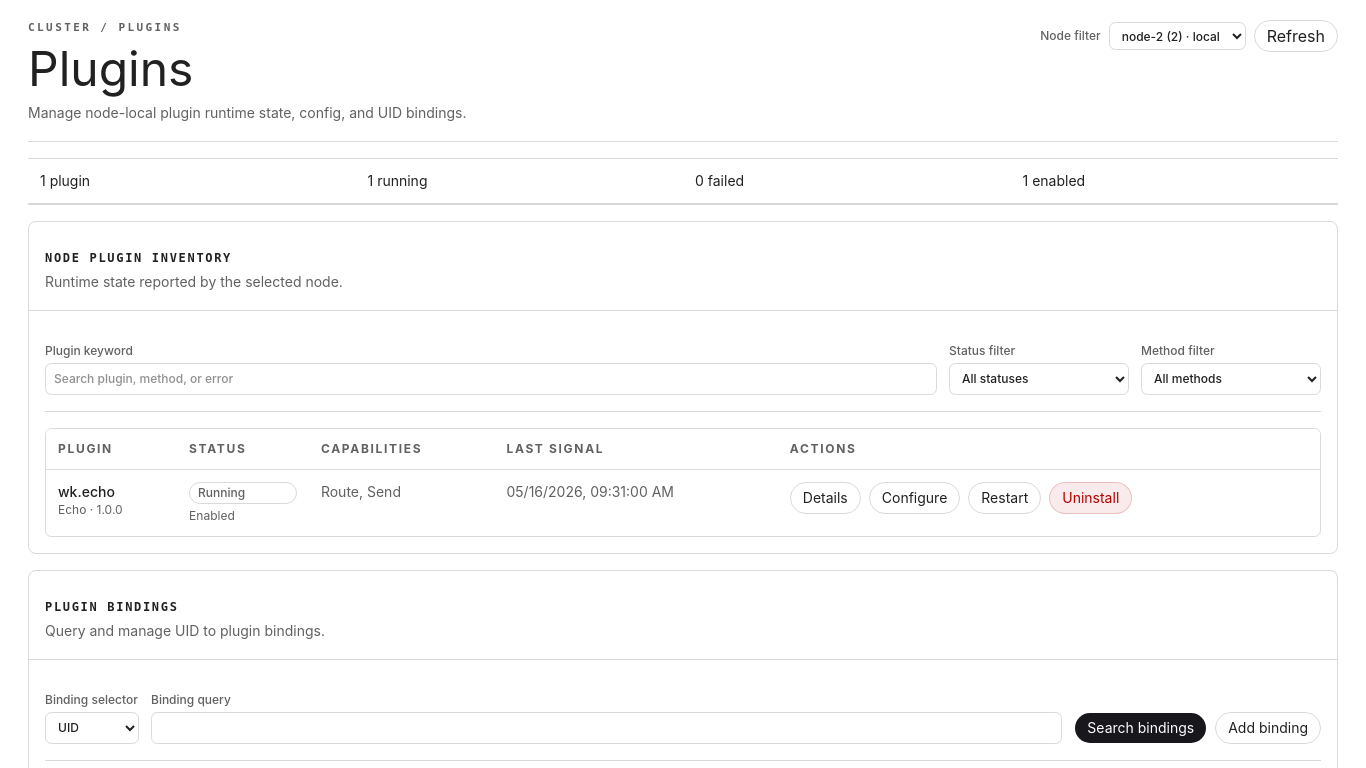
Scenario: validates plugin config JSON before updating
Expected: the text "wk.echo" is shown, [58,482,115,500]
Click the button with aria-label "Configure plugin wk.echo". click: (915, 498)
box: [869,482,960,514]
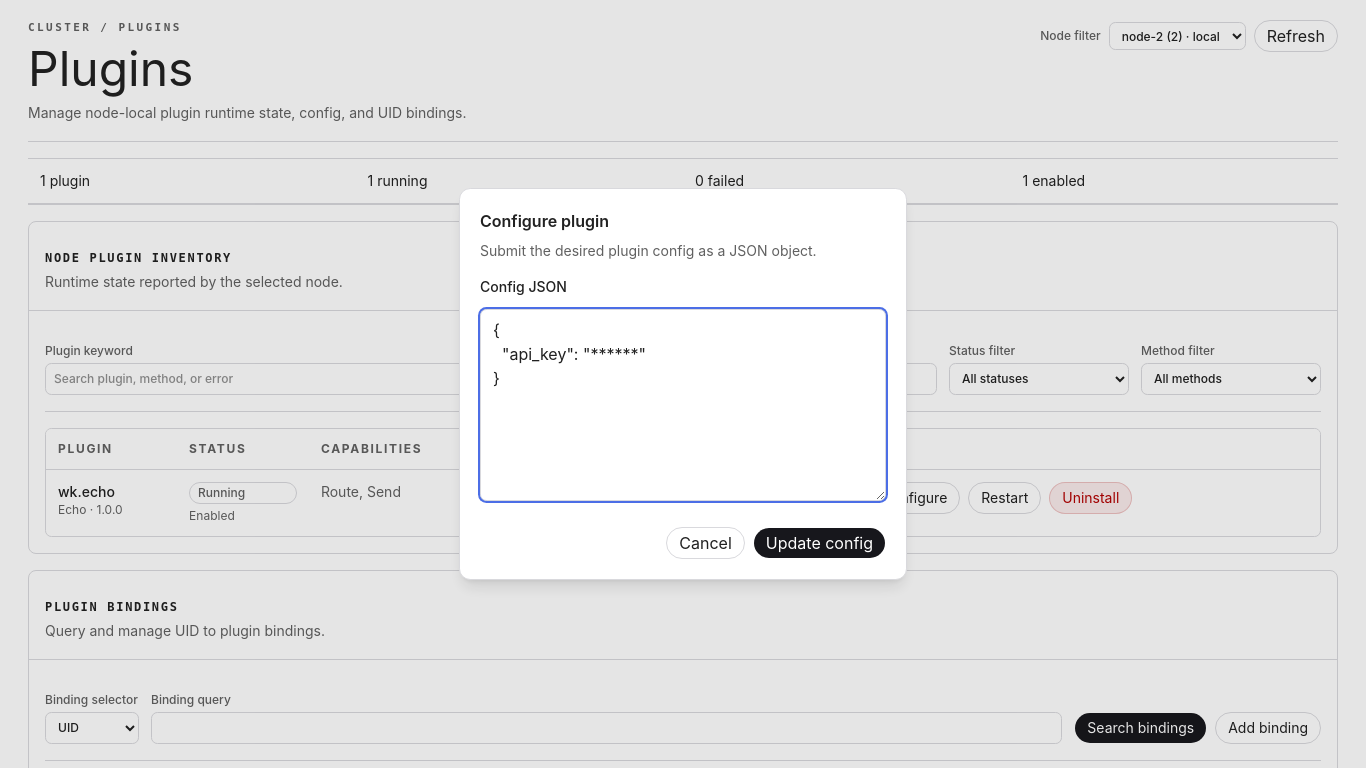
Replace the text in the text box labelled "Config JSON" with "not-json". click: (683, 405)
box: [480,309,886,501]
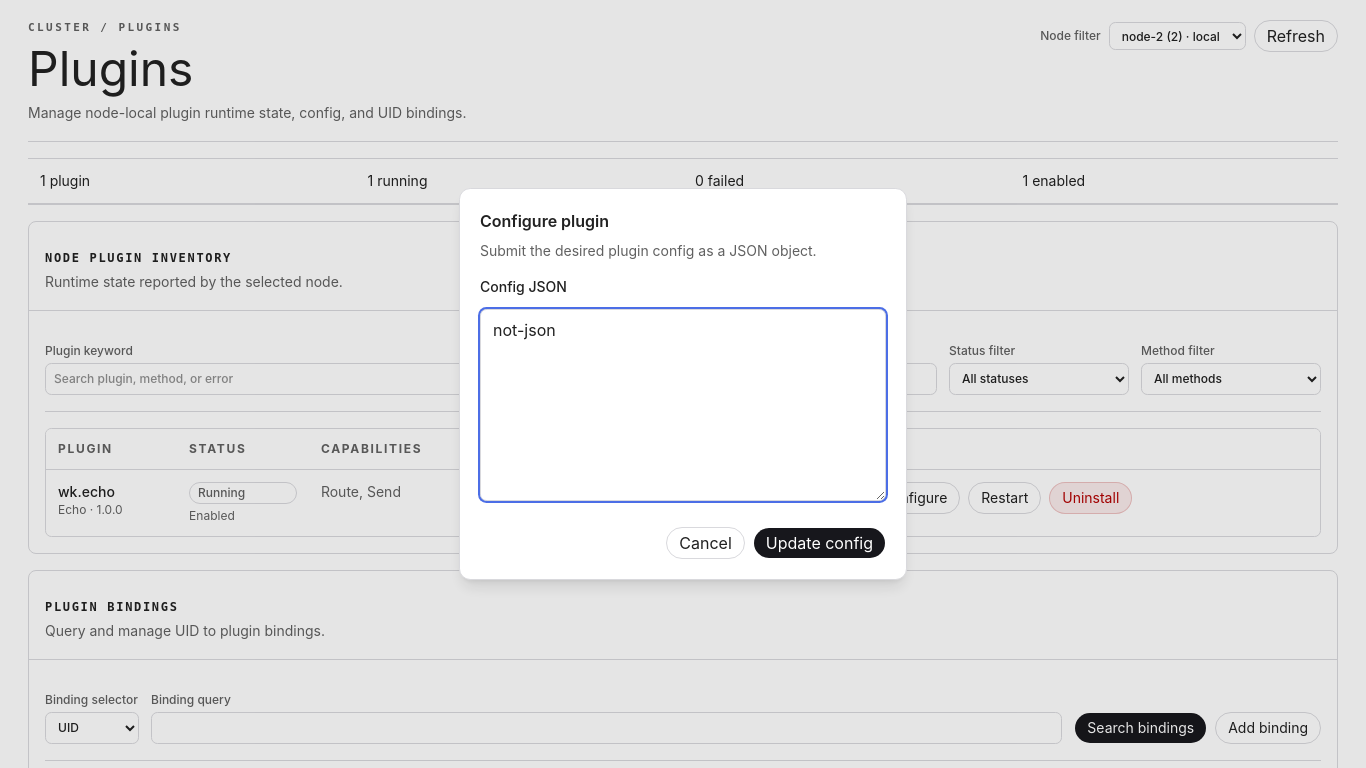
Click the button "Update config". click: (819, 543)
box: [753,527,886,559]
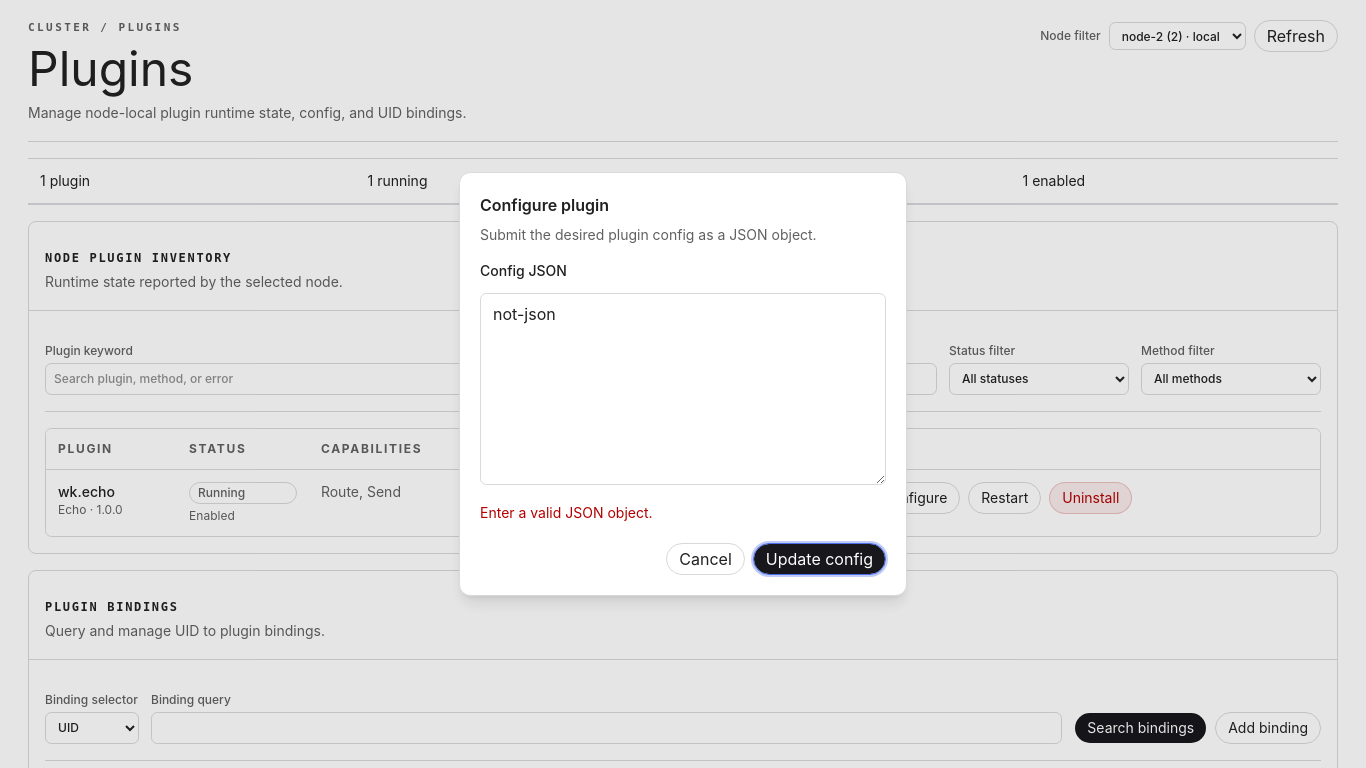
Result: the text "Enter a valid JSON object." is shown at [480,504,652,521]
Replace the text in the text box labelled "Config JSON" with "[]". click: (683, 389)
box: [480,293,886,485]
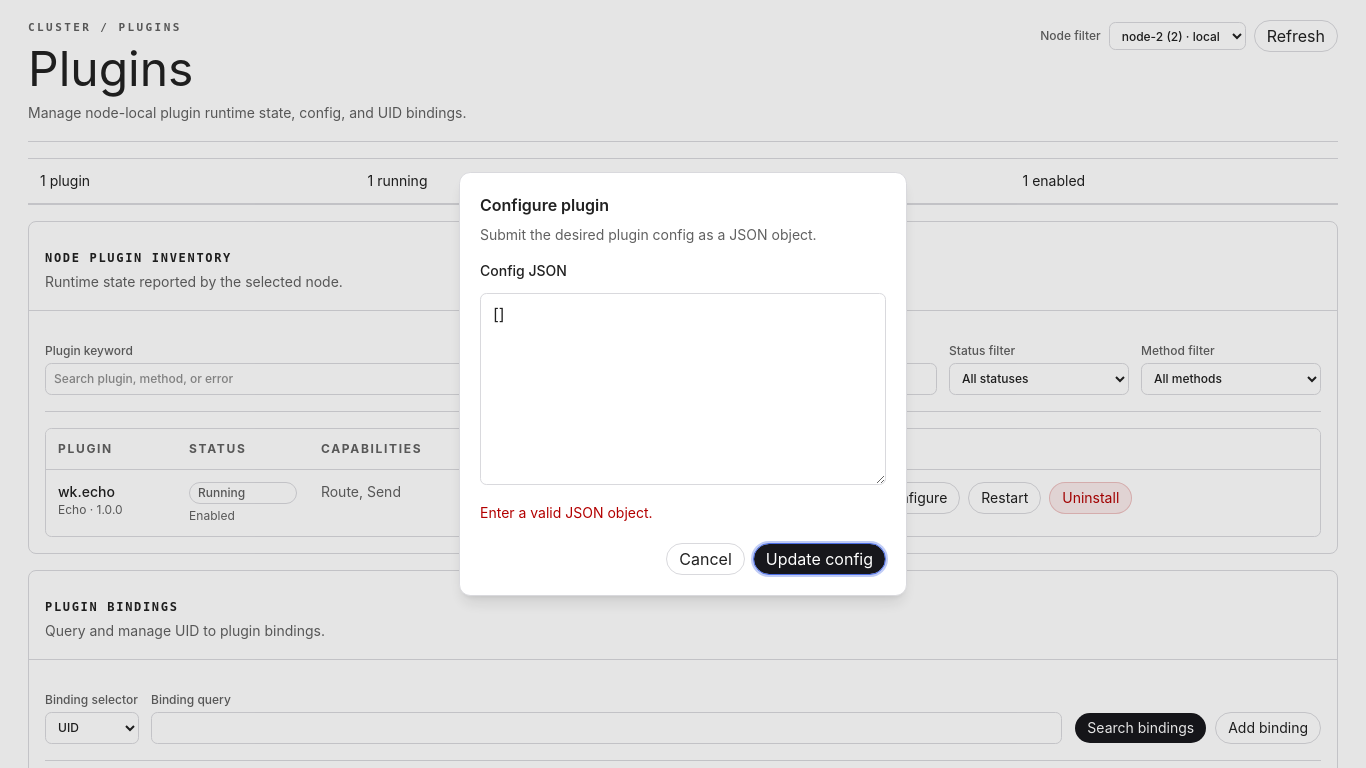
Click the button "Update config". click: (819, 559)
box: [753,543,886,575]
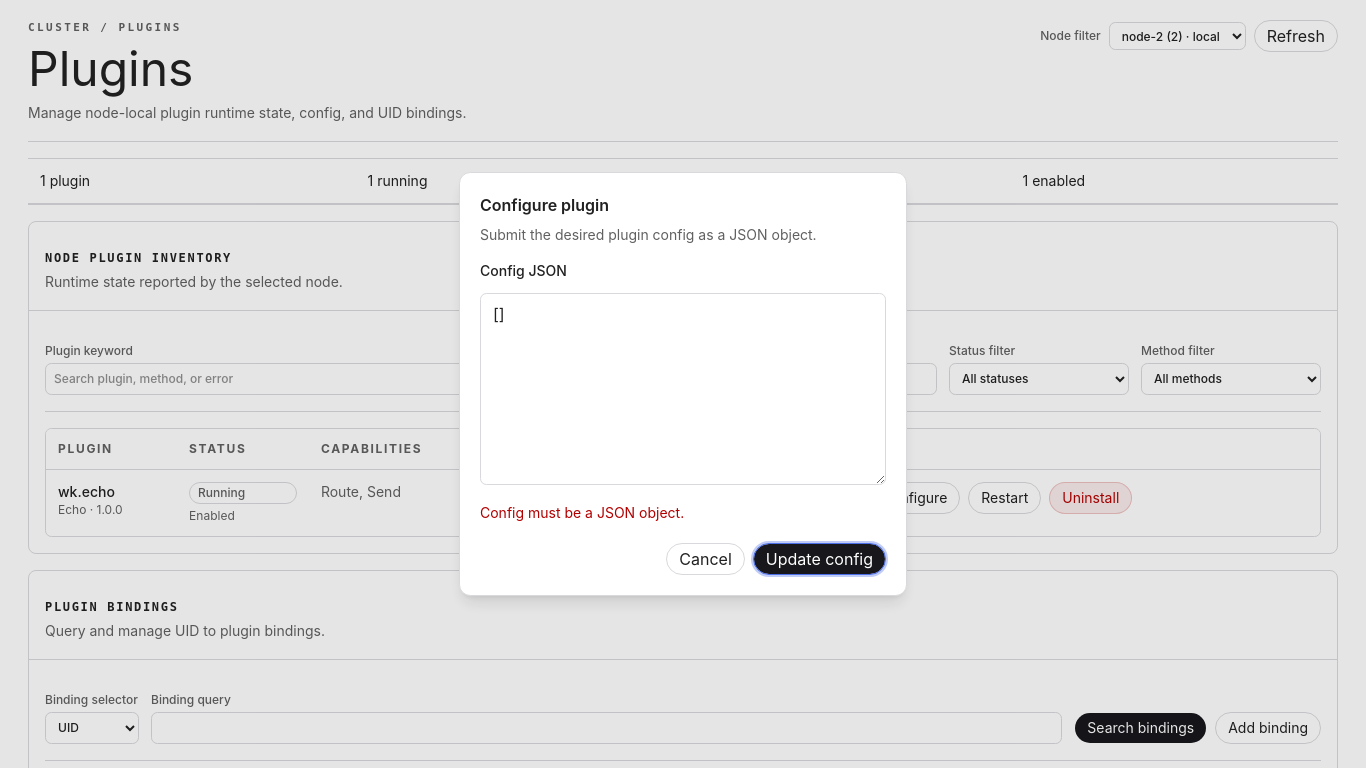
Result: the text "Config must be a JSON object." is shown at [480,504,684,521]
